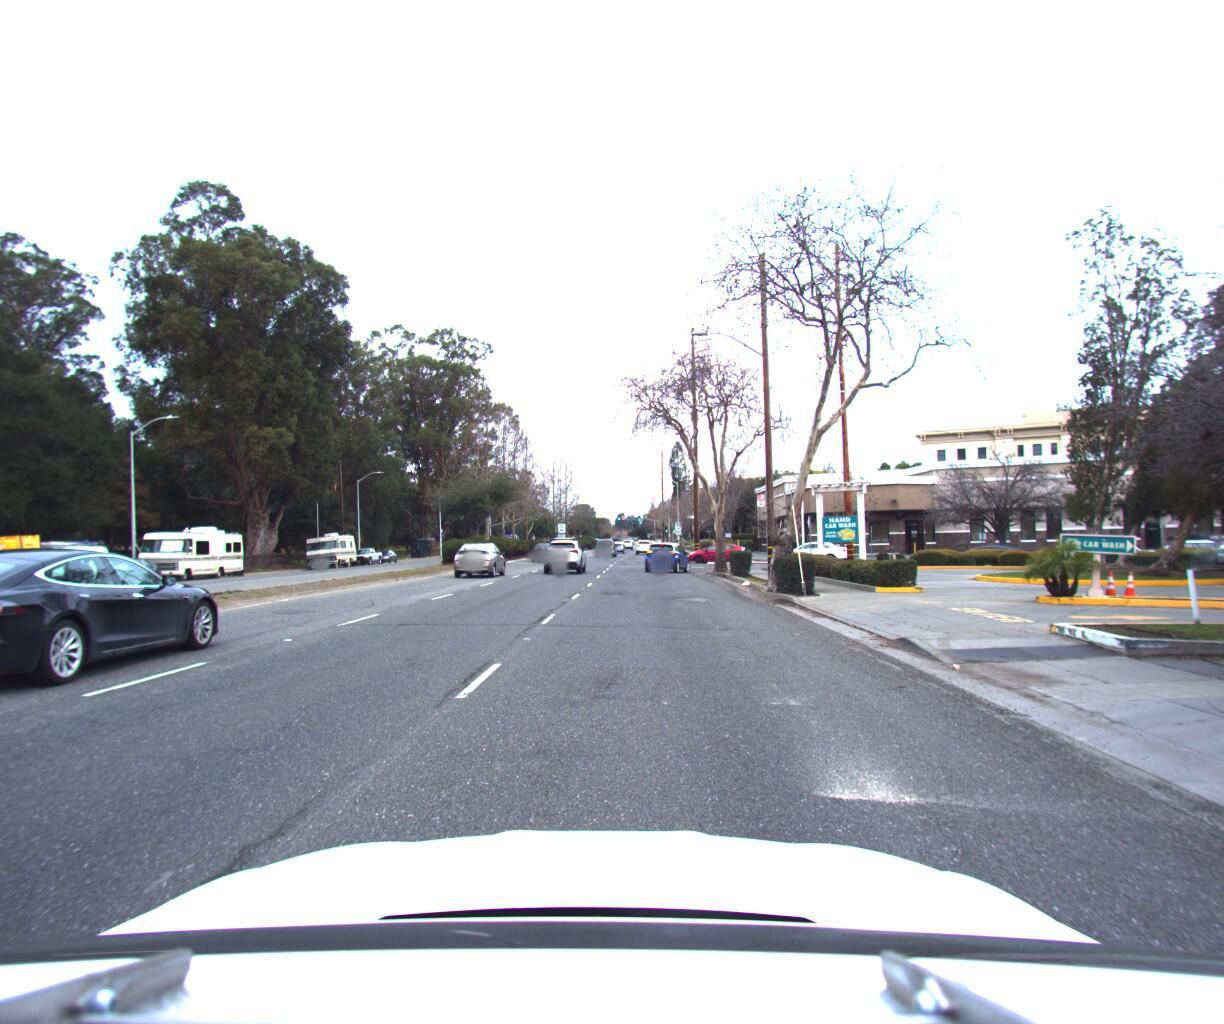car: (0, 531, 236, 695), (0, 530, 128, 588), (1127, 522, 1224, 555), (88, 547, 174, 582), (455, 532, 518, 570), (772, 530, 855, 556), (542, 527, 588, 565), (640, 532, 693, 564), (681, 532, 750, 556), (348, 538, 383, 558), (1210, 518, 1224, 564), (595, 529, 618, 548)
other_vehicle: (133, 518, 254, 576), (301, 521, 364, 562)
truck: (0, 489, 58, 615)
